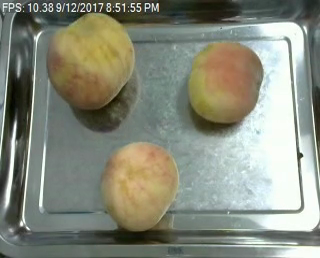Peach: (47, 12, 136, 110), (100, 141, 178, 231), (187, 40, 263, 124)
